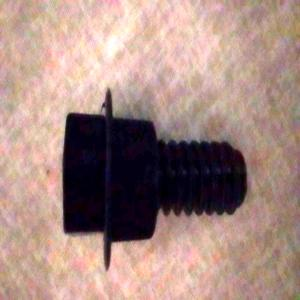parafuso: (65, 86, 247, 272)
